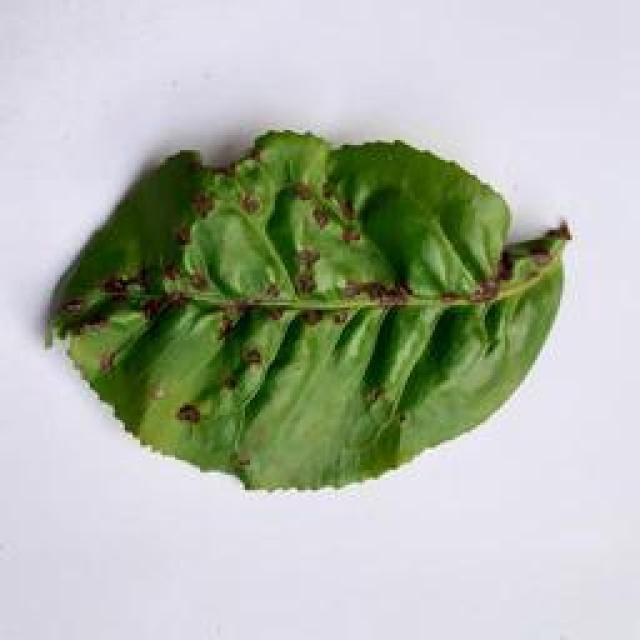Helopeltis: (48, 124, 576, 493)
